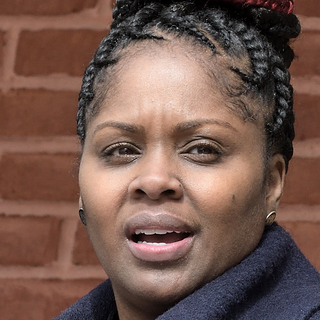eye: (174, 135, 229, 167), (97, 138, 145, 169)
